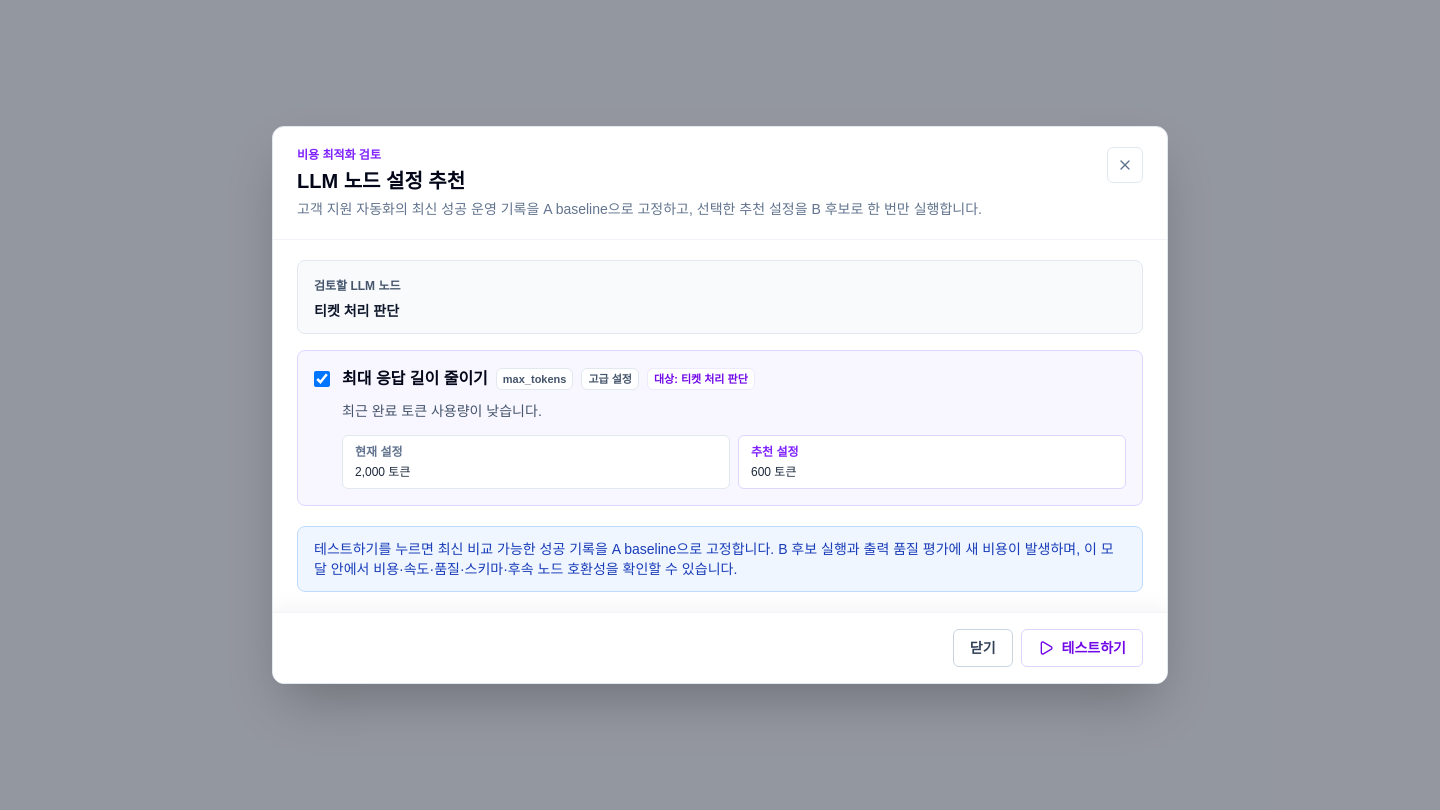
Test: FR-013 추천 설정 인라인 검증 모달 › 테스트하기는 페이지 이동 없이 최신 성공 기록 기준 검증 결과와 독립 metric bar를 표시한다
This screenshot has width=1440, height=810.
What coordinates should you click on to do the following:
click the button "테스트하기"
I would click on:
 (1082, 648)
Its box is [1021,629,1143,667].
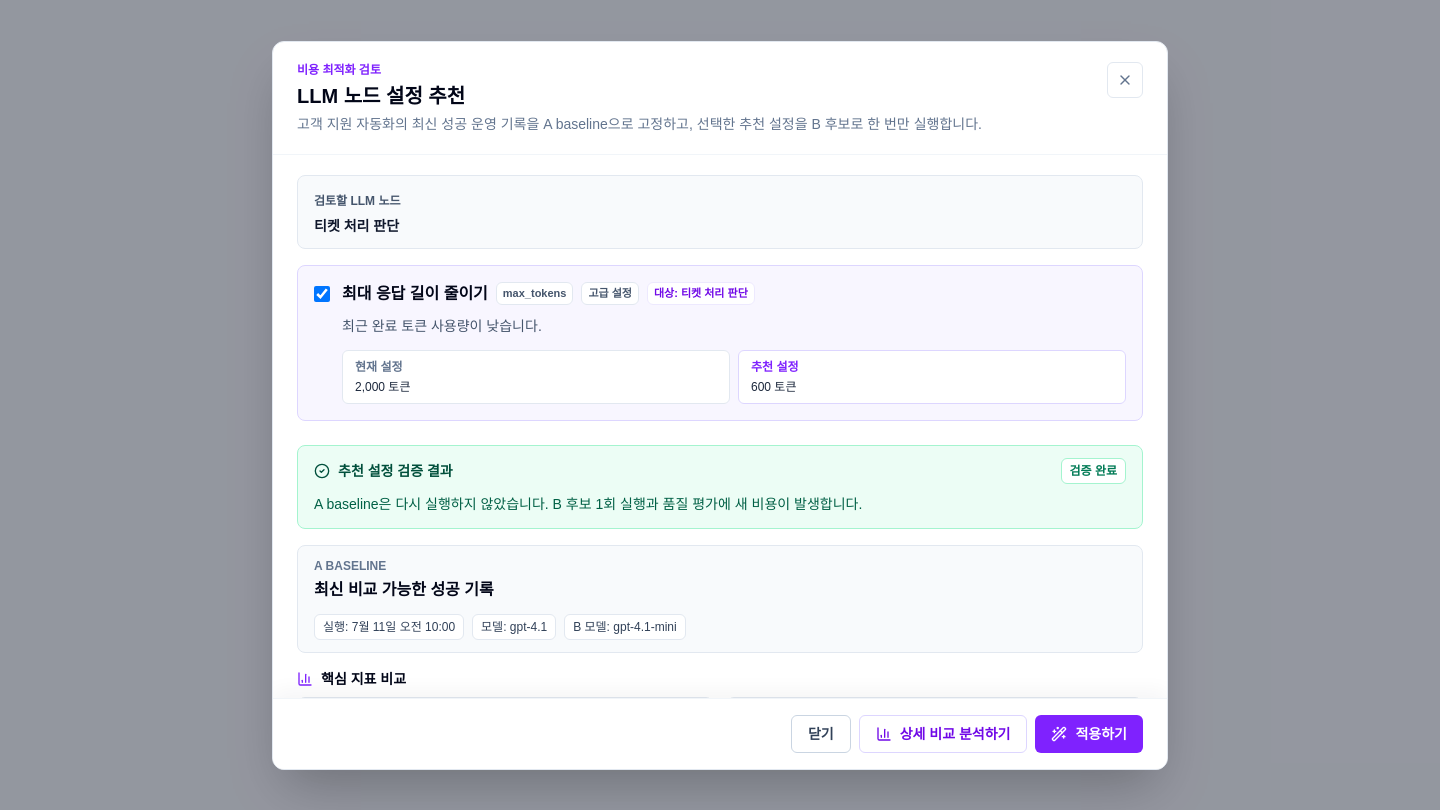
Expected: the heading "최신 비교 가능한 성공 기록" is shown, [314,580,494,598]
Expected: the button "적용하기" is enabled, [1036,714,1143,752]
